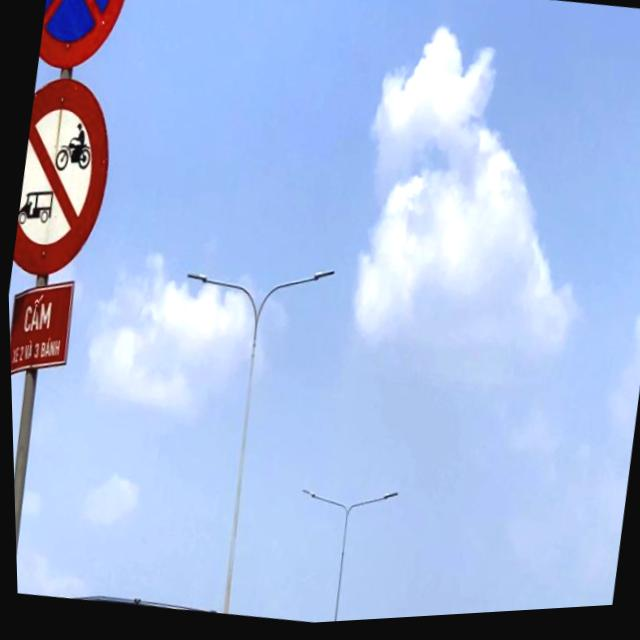Cam dung xe va do xe: (33, 0, 142, 95)
